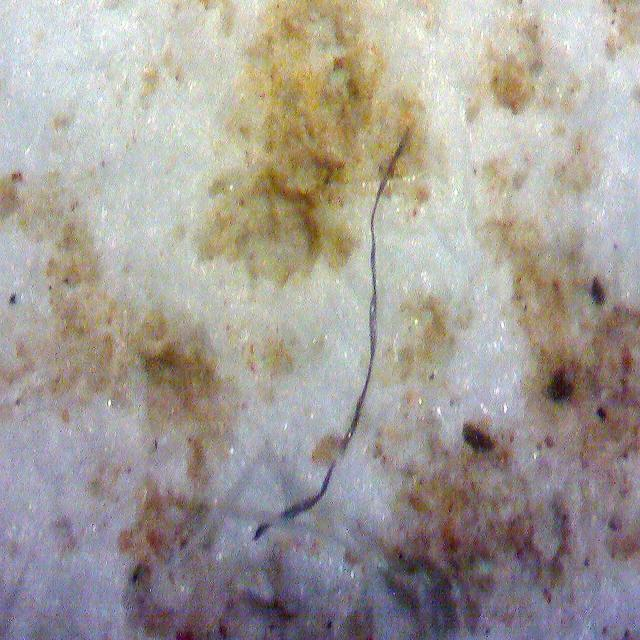microplastic: (238, 123, 468, 560)
